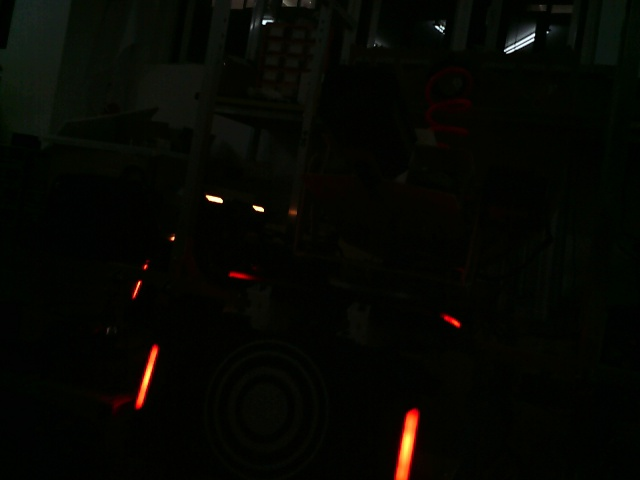lamp: (125, 342, 168, 412)
